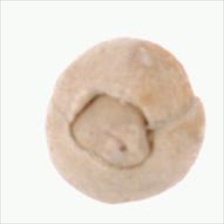L3: (66, 93, 156, 172)
L4: (46, 38, 205, 206)
